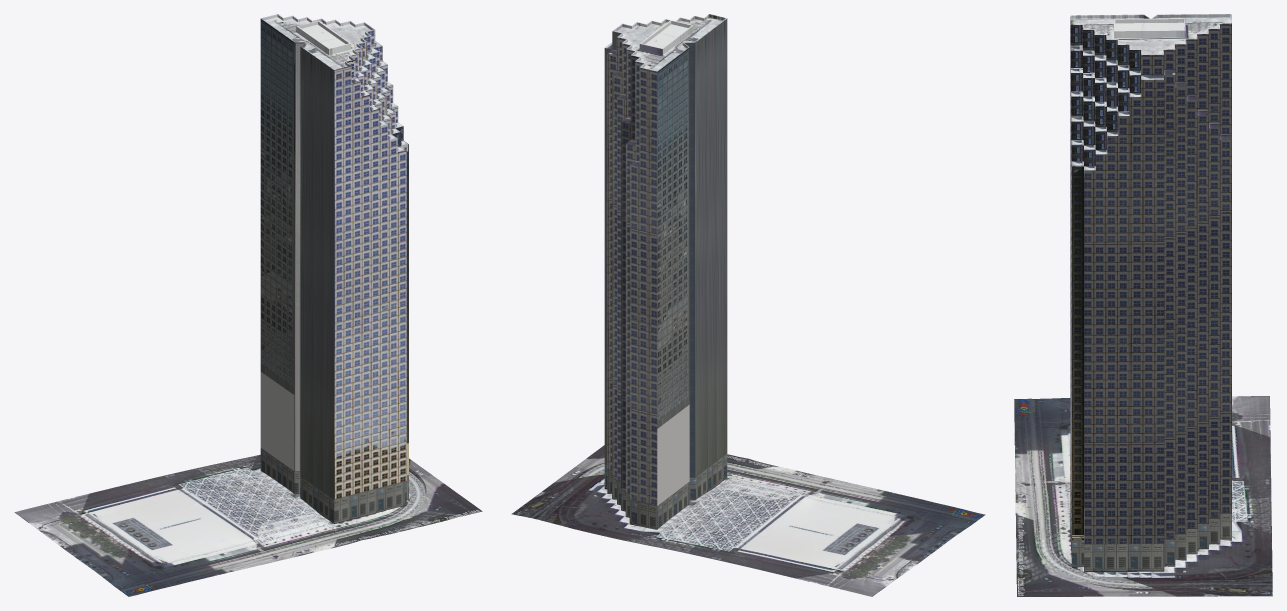
File: Wachovia-Financial-Center.fbx
3 views of the same model, side by side, from view 1: azimuth 30°, elevation 25°; view 2: azimuth 150°, elevation 25°; view 3: azimuth 270°, elevation 25° (orthographic). The views are drawn at different scales.
Parts seen in each view (by area): view 1: Group1, Google_Earth_Terrain; view 2: Group1, Google_Earth_Terrain; view 3: Group1, Google_Earth_Terrain.
Boxes of the visible parts, x1,y1,x2,y2 form: Group1: [260, 14, 408, 523]; Google_Earth_Terrain: [14, 454, 482, 596]; Group1: [604, 14, 727, 529]; Google_Earth_Terrain: [511, 445, 985, 596]; Group1: [1070, 14, 1231, 572]; Google_Earth_Terrain: [1014, 396, 1272, 596].
Size of the model in its own units: 7459 by 9255 by 4153.
